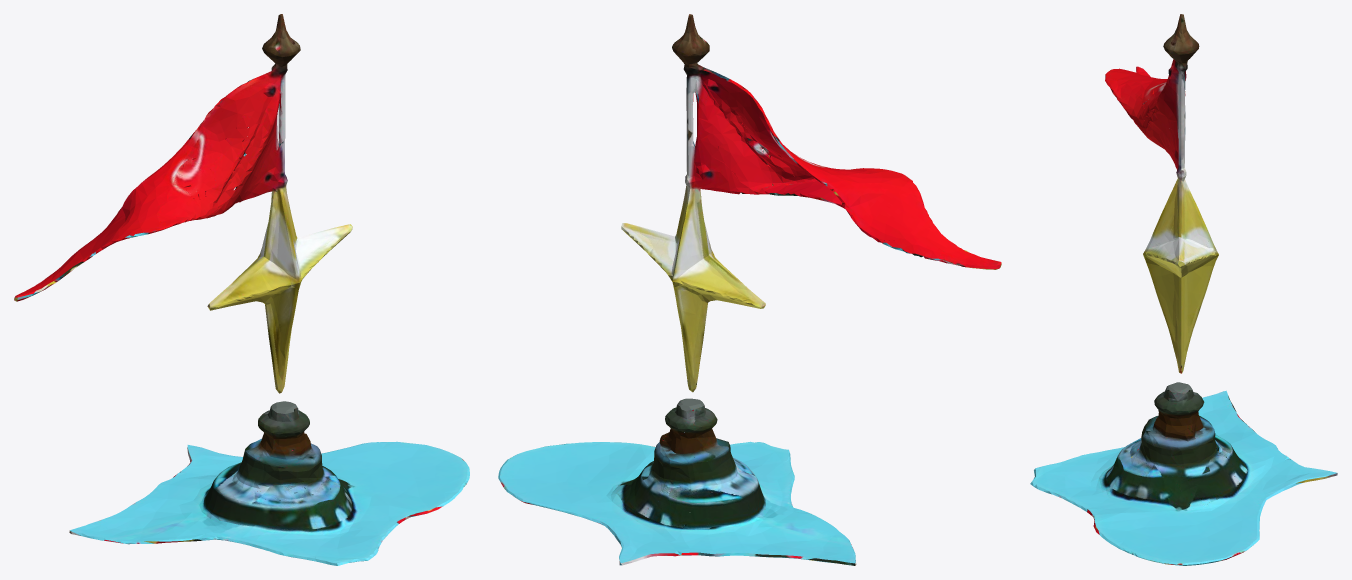
The model's file is summit_flag.glb.
The picture shows the model from 3 angles, left to right: view 1: azimuth 30°, elevation 25°; view 2: azimuth 150°, elevation 25°; view 3: azimuth 270°, elevation 25°; orthographic projection. The views are drawn at different scales.
Visible parts, largest first — view 1: tmp4czdfxyk.ply; view 2: tmp4czdfxyk.ply; view 3: tmp4czdfxyk.ply.
Boxes of the visible parts, box(x1,y1,x2,y2) form: tmp4czdfxyk.ply: box(14, 14, 469, 565); tmp4czdfxyk.ply: box(498, 14, 1001, 565); tmp4czdfxyk.ply: box(1030, 14, 1337, 565).
Bounding box in the file's own units: 1.99 × 1.99 × 1.18.
Materials: 1 (1 with a texture image).
